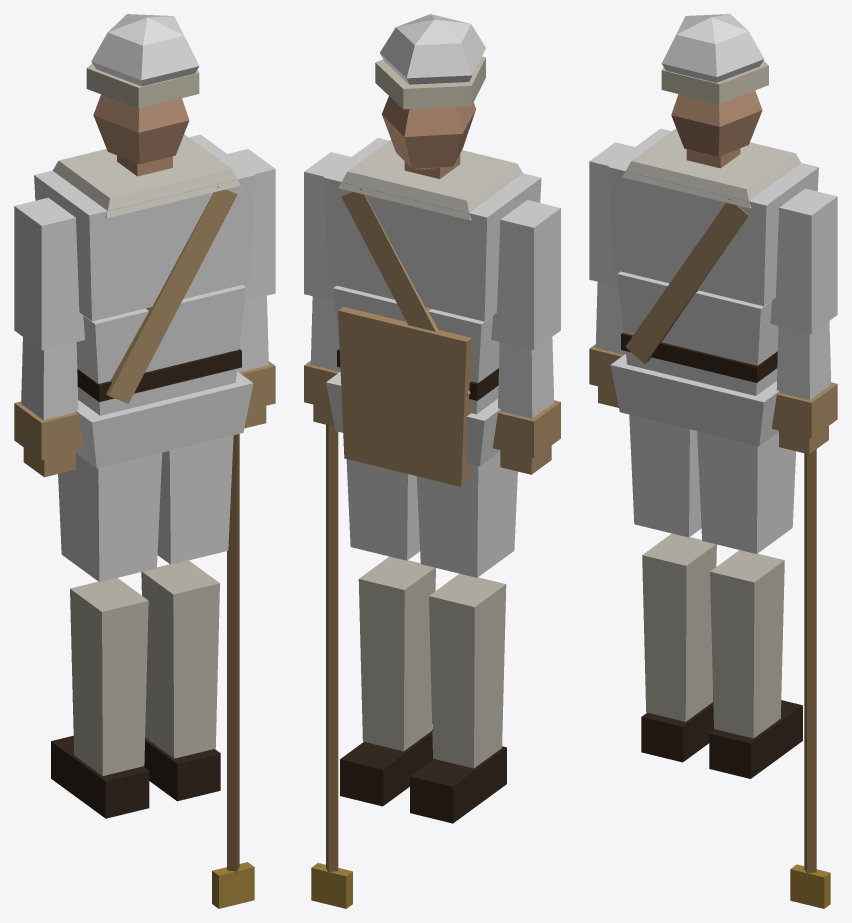
The model's file is soldier_em_gunner_lod1.glb.
The picture shows the model from 3 angles, left to right: view 1: azimuth 30°, elevation 25°; view 2: azimuth 150°, elevation 25°; view 3: azimuth 330°, elevation 25°; orthographic projection. The views are drawn at different scales.
Visible parts, largest first — view 1: em_gunner_lod1_static; view 2: em_gunner_lod1_static; view 3: em_gunner_lod1_static.
Part boxes in pixels (<box>): em_gunner_lod1_static: <box>14,14,275,908</box>; em_gunner_lod1_static: <box>304,14,560,908</box>; em_gunner_lod1_static: <box>589,14,837,908</box>.
Bounding box in the file's own units: 0.59 × 2.2 × 0.285.
